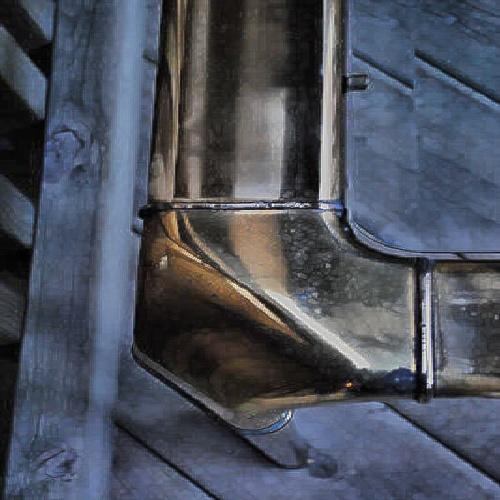table: (67, 32, 450, 474)
